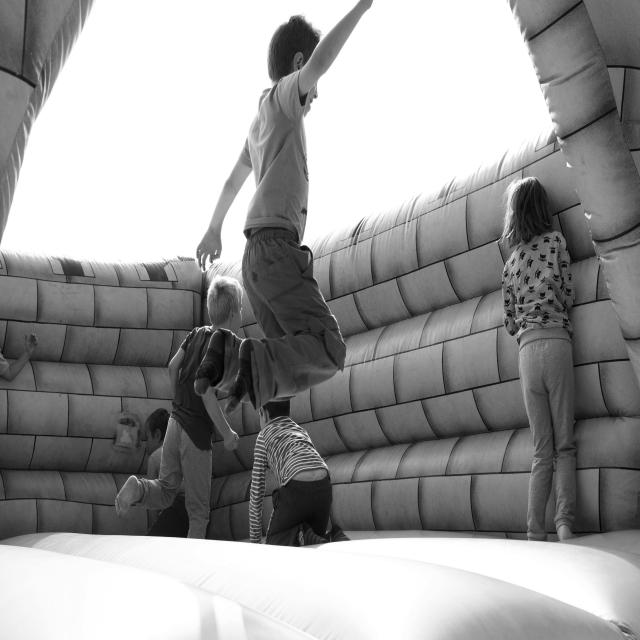sit: (250, 392, 348, 566)
stand: (203, 26, 342, 426), (492, 169, 600, 555), (154, 266, 246, 550)
